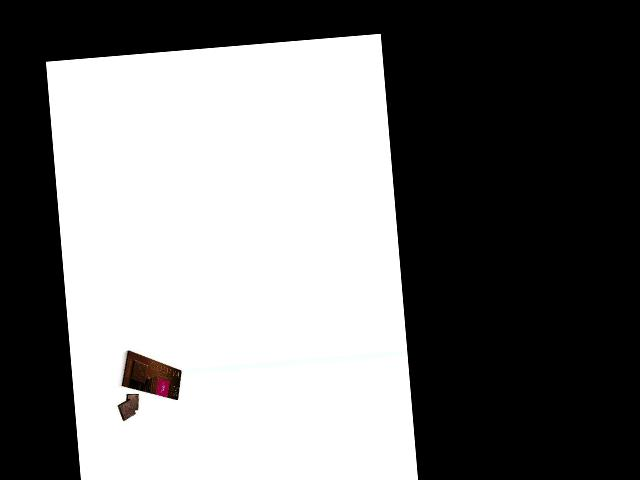chocolate: (117, 345, 184, 405)
